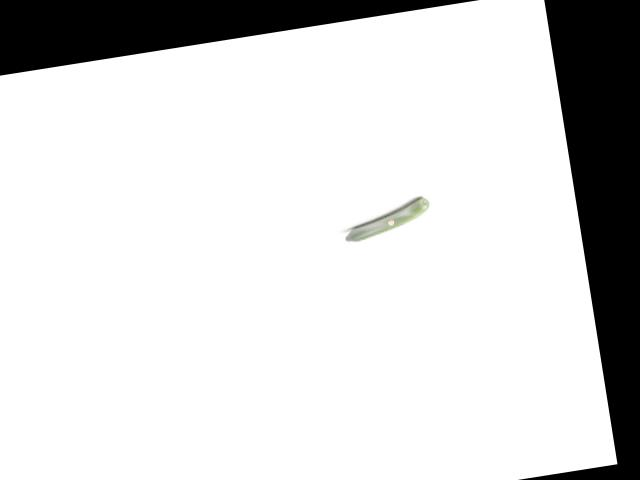cucumber: (341, 196, 434, 242)
